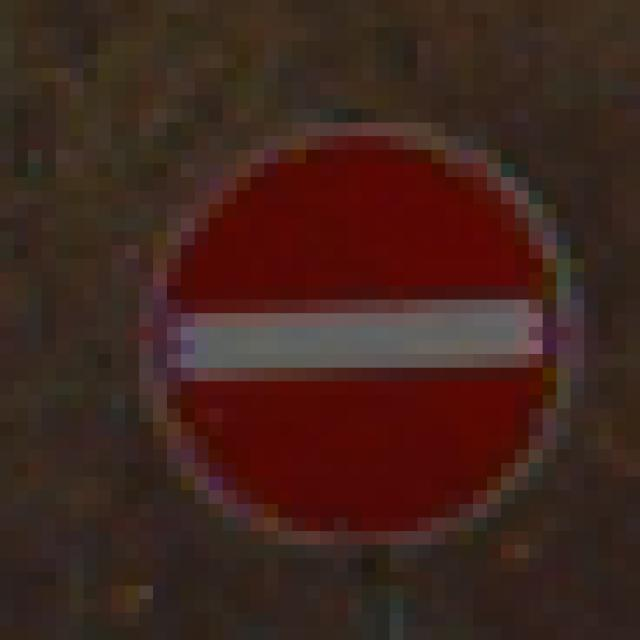No Entry: (85, 83, 558, 573)
